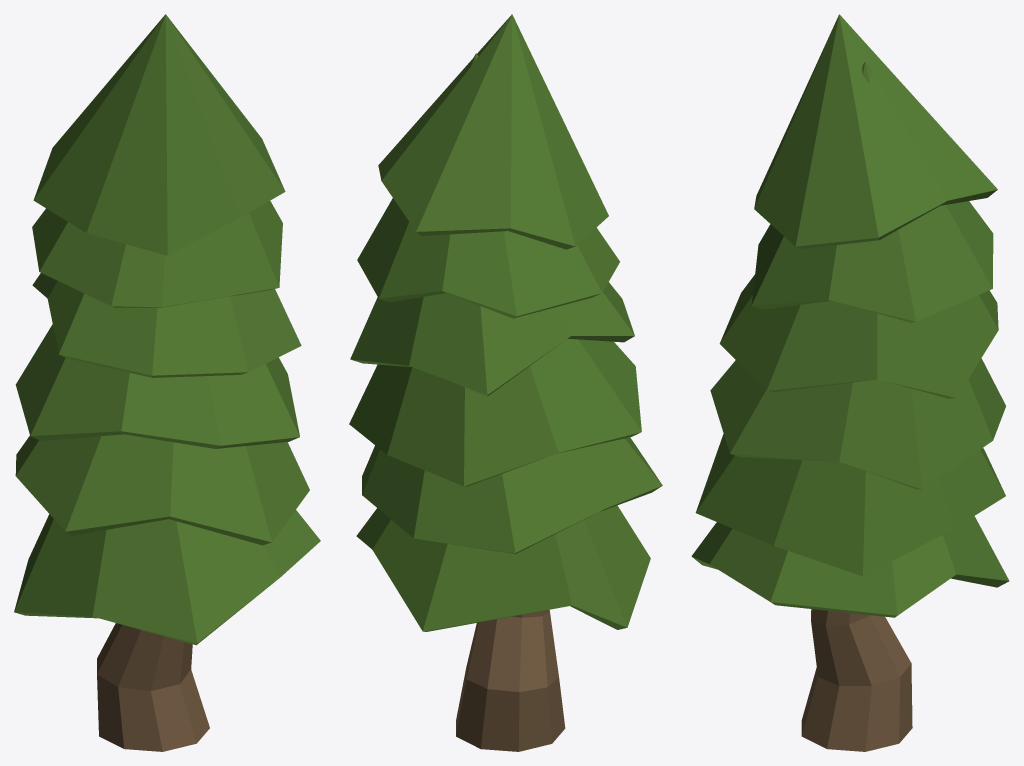
The model's file is tree4.fbx.
3 renders of one model, left to right at view 1: azimuth 30°, elevation 25°; view 2: azimuth 150°, elevation 25°; view 3: azimuth 270°, elevation 25°, orthographic.
Visible parts, largest first — view 1: Cone.001; view 2: Cone.001; view 3: Cone.001.
Boxes of the visible parts, bbox=[...] form: Cone.001: bbox=[14, 14, 320, 751]; Cone.001: bbox=[349, 14, 662, 751]; Cone.001: bbox=[691, 14, 1009, 751].
Bounding box in the file's own units: 123 × 308 × 124.
